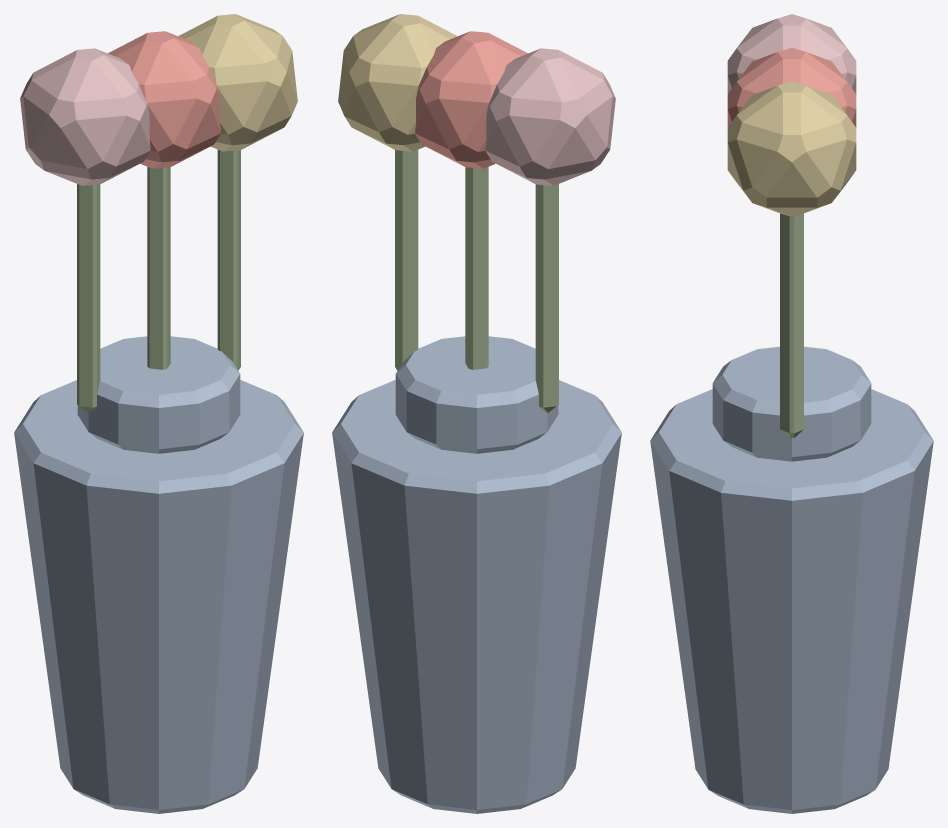
File: SM_Vase_02.fbx
3 views of the same model, side by side, from view 1: azimuth 30°, elevation 25°; view 2: azimuth 150°, elevation 25°; view 3: azimuth 270°, elevation 25° (orthographic). The views are drawn at different scales.
Visible parts, largest first — view 1: Vase_02; view 2: Vase_02; view 3: Vase_02.
Boxes of the visible parts, x1,y1,x2,y2 form: Vase_02: (14, 14, 303, 813); Vase_02: (332, 14, 621, 813); Vase_02: (650, 14, 933, 813).
Bounding box in the file's own units: 18.49 × 50.27 × 17.85.
